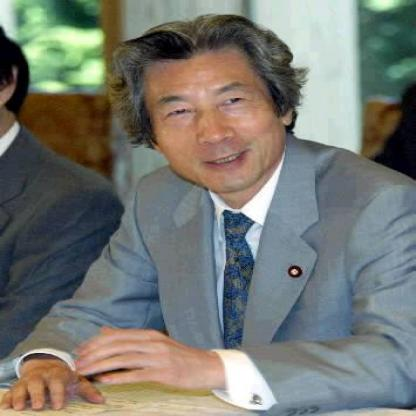face: (143, 28, 282, 196)
